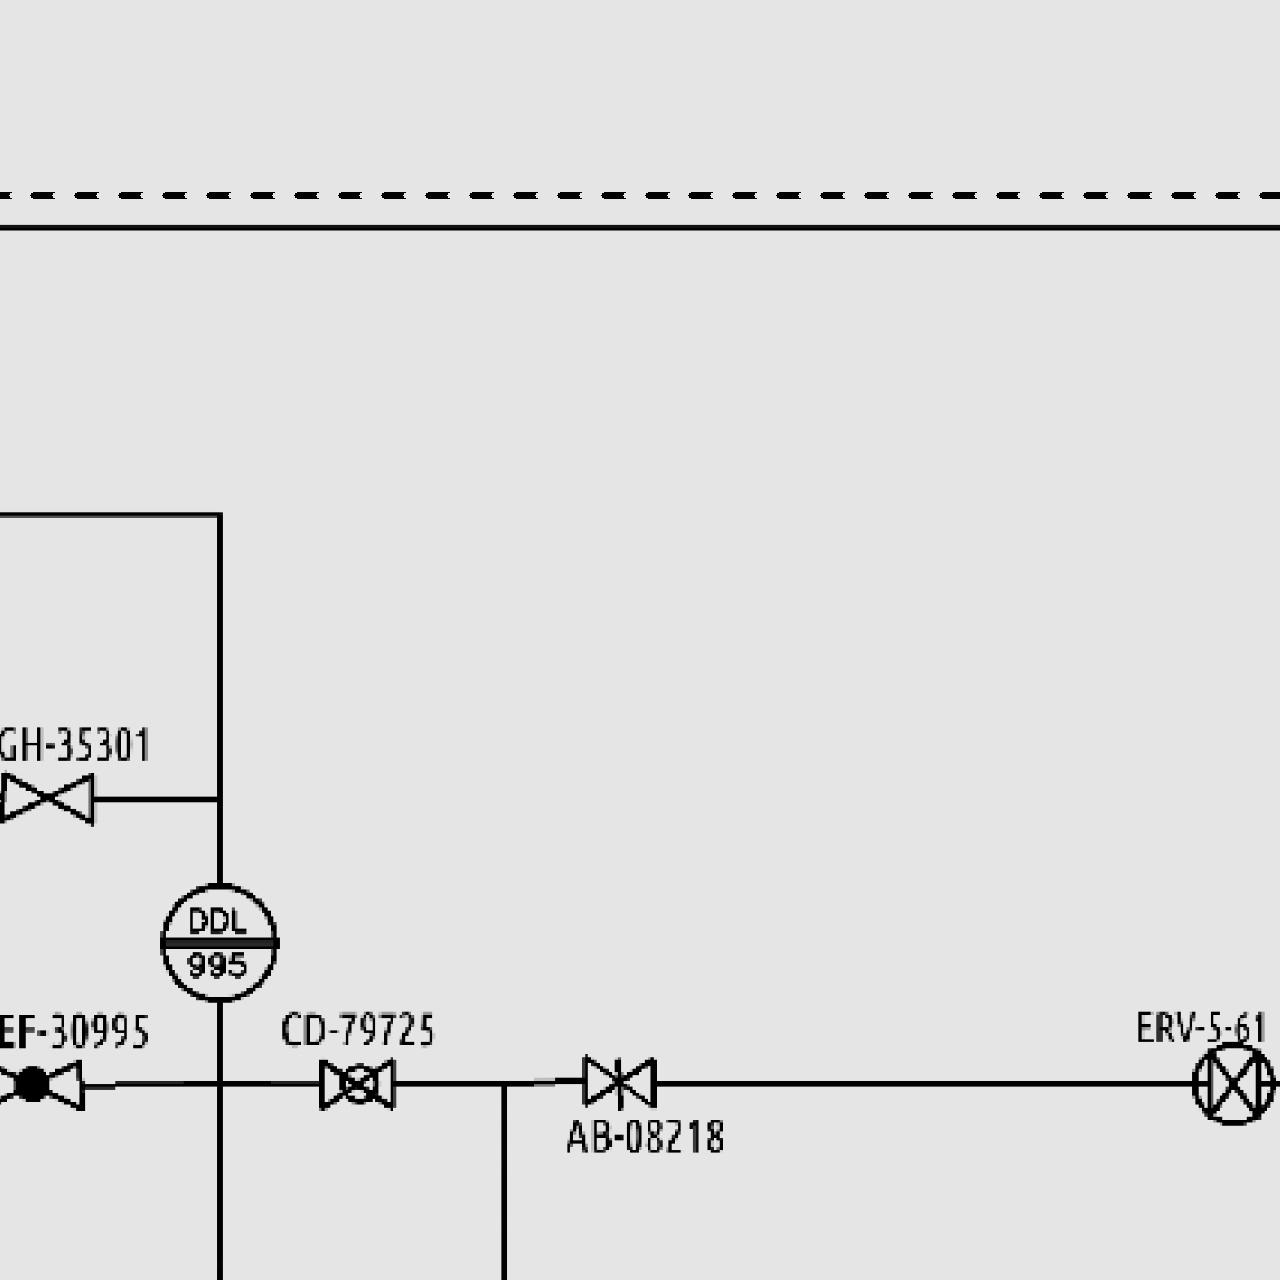Control-Panel: (155, 878, 282, 1005)
